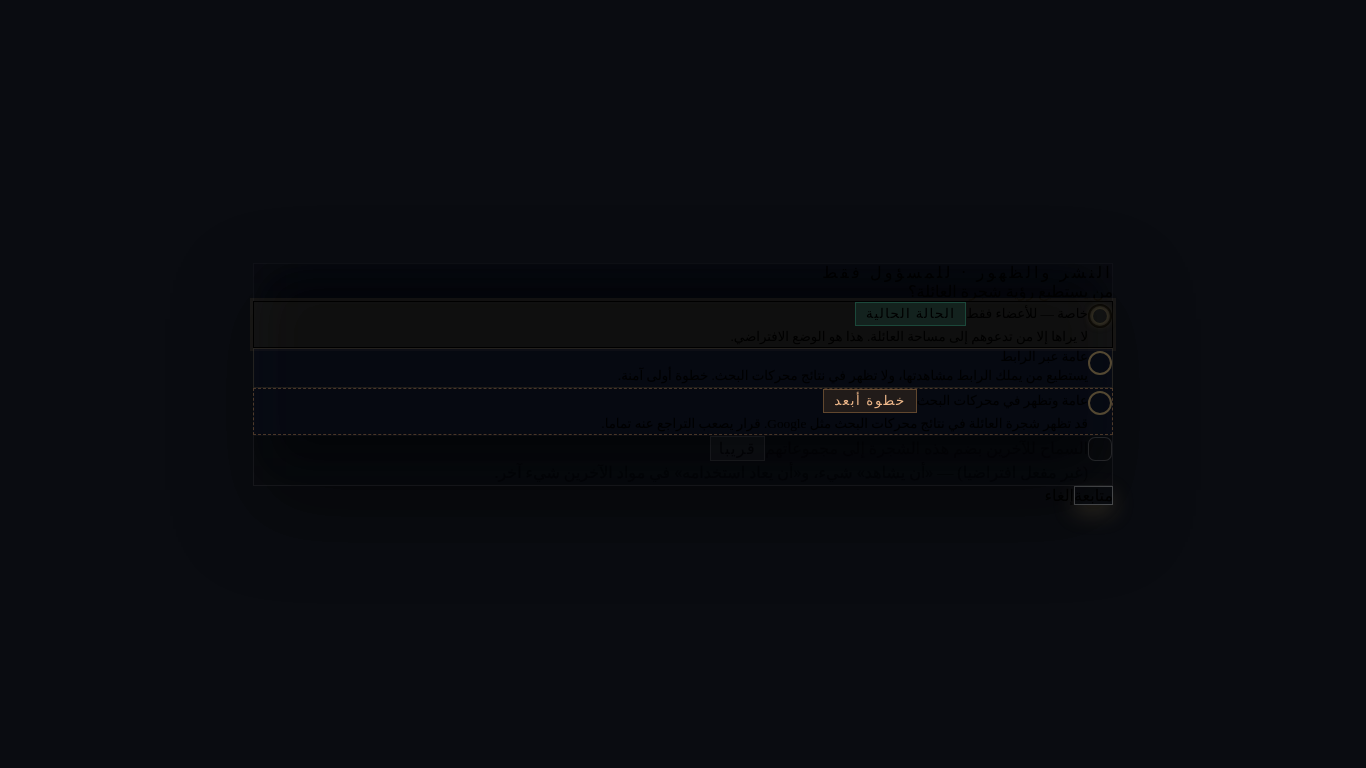
Test: publish flow — «المصادر في الشجرة المنشورة» › is skipped entirely when every entry is already public (N = 0) and there is no pending tree-wide entry
The width and height of the screenshot is (1366, 768).
What coordinates should you click on to do the following:
click the text "عامة عبر الرابط"
I would click on:
 (1044, 357)
Its box is [1000,349,1088,364].
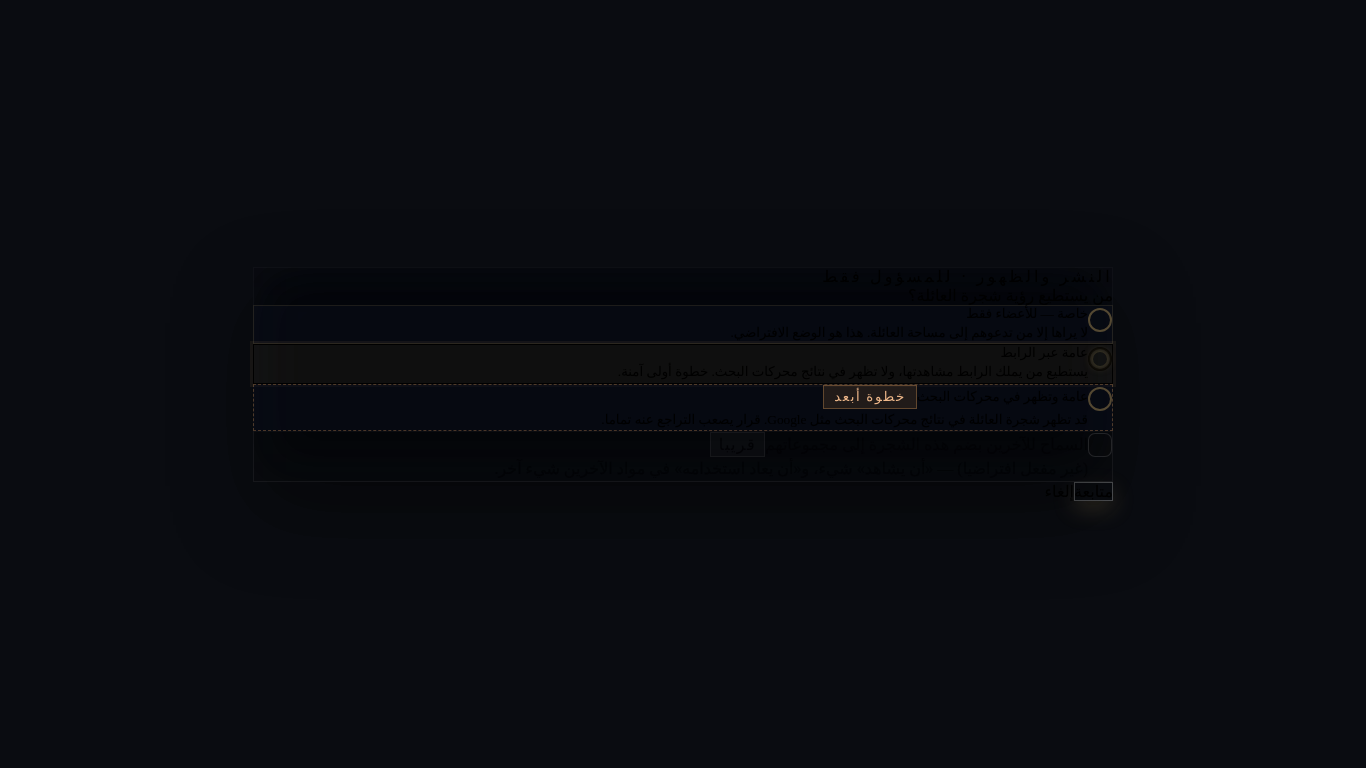
What coordinates should you click on to do the following:
click the button "متابعة"
I would click on:
 (1094, 492)
Its box is [1074,482,1113,501].
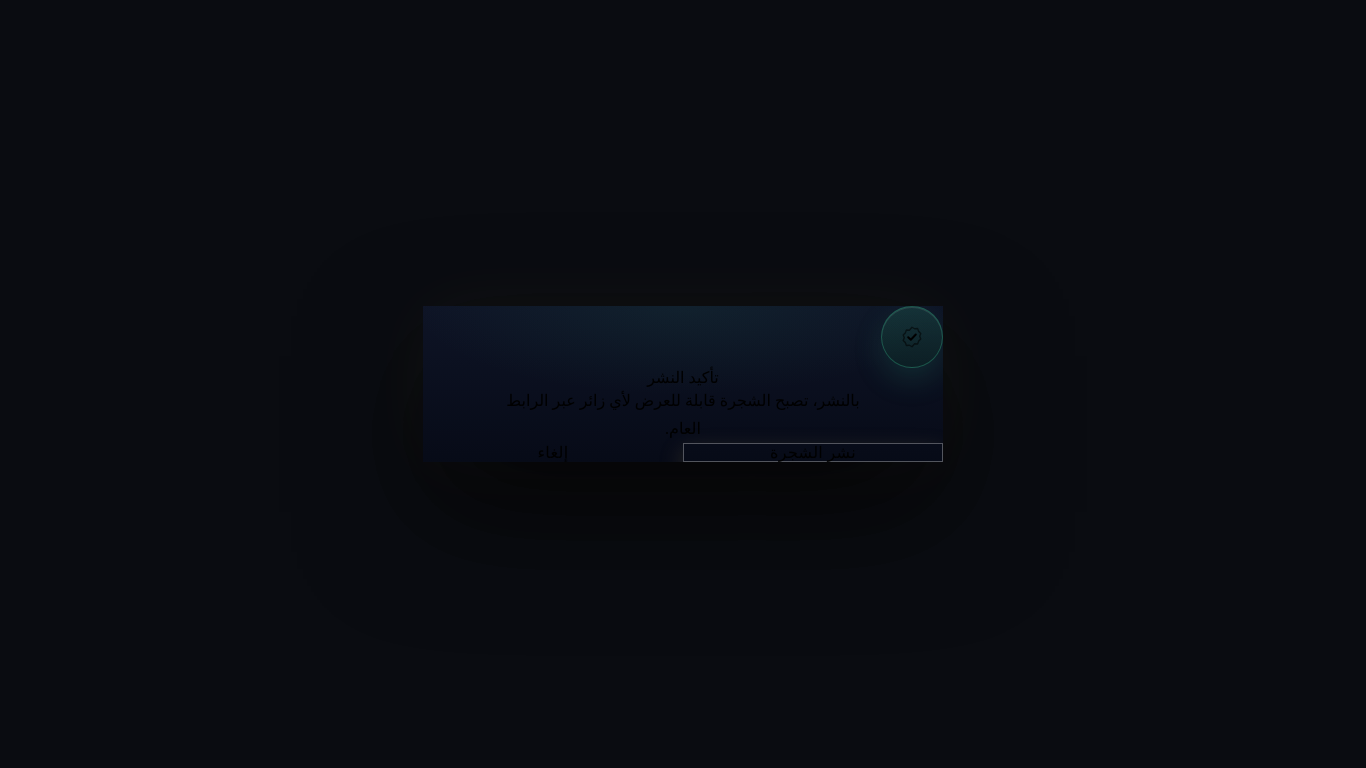
Expected: the heading "تأكيد النشر" is shown, [647,369,719,386]
